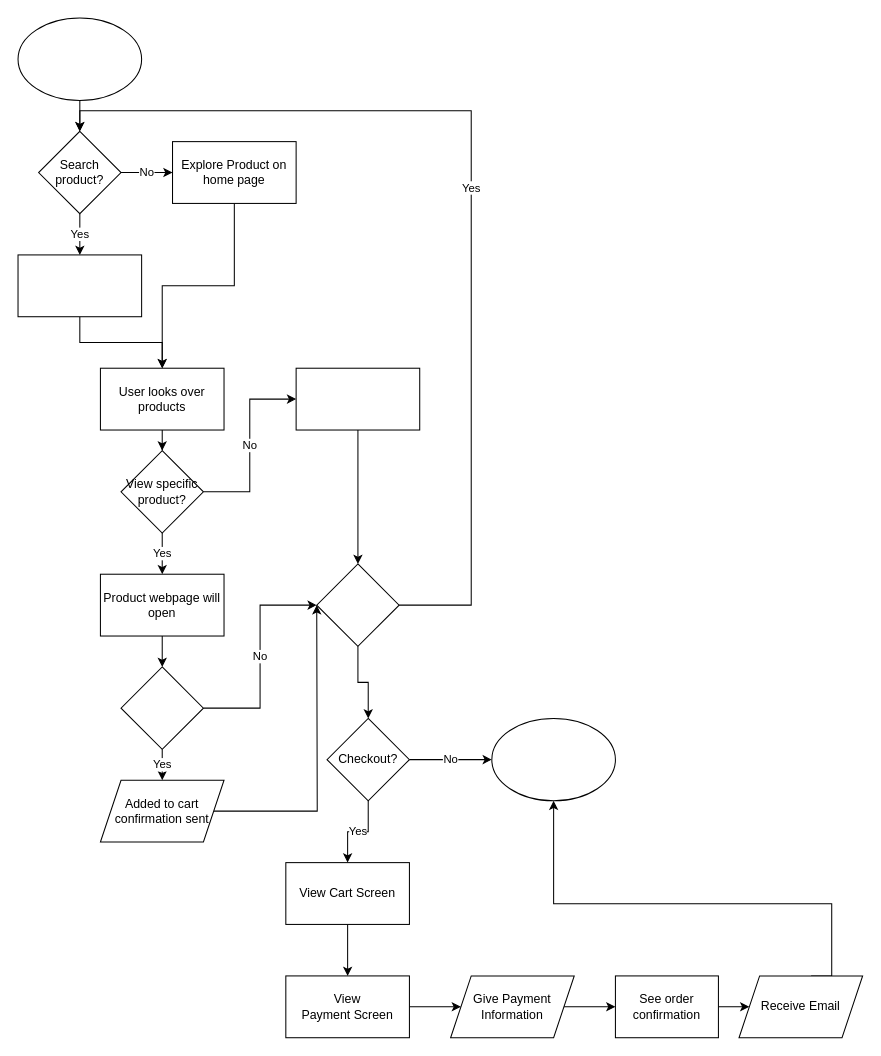
This 881x1056 diagram has some shape labels left out. The shapes that lost their labels are listed below. From the top down, each one's box as (x1, y1, x2, y2) in pixels, then its label:
(17, 17, 142, 100): Enter Website
(17, 254, 142, 317): Proide input to website, begin search
(295, 367, 420, 430): Prompt to continue shopping appears
(316, 563, 399, 646): Continue Shopping?
(120, 666, 203, 749): Add to cart?
(491, 717, 615, 801): Leave Website
